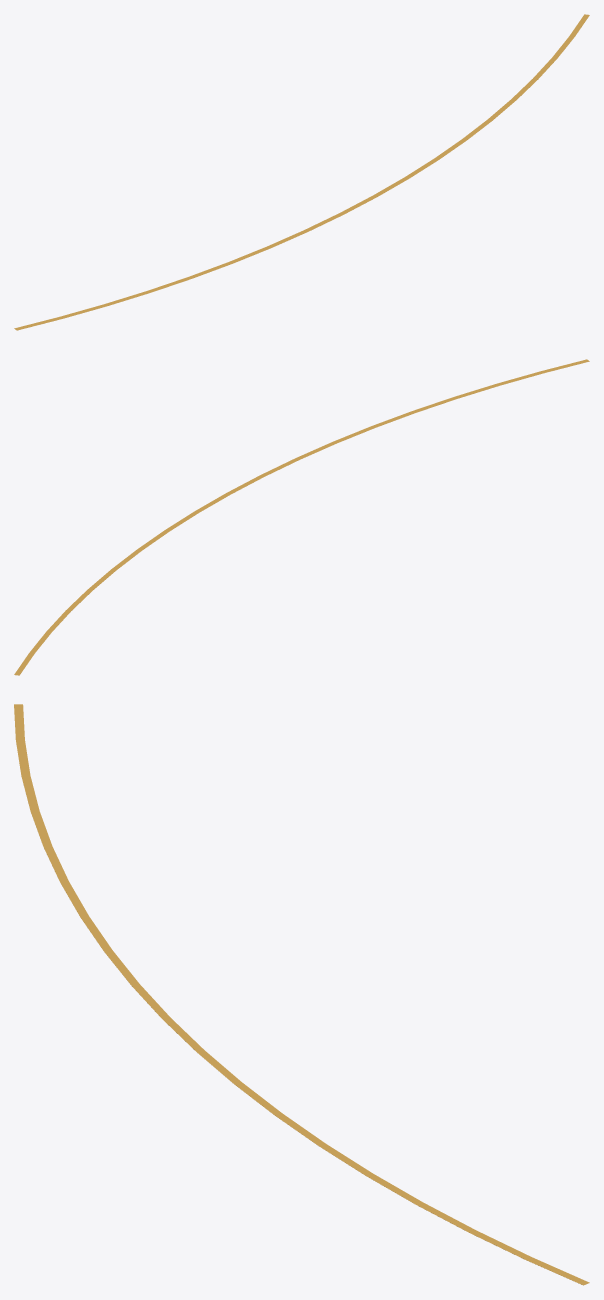
File: RoadPlan_CurveMarking_2L_A45_R18_Center.glb
The picture shows the model from 3 angles, top to bottom: view 1: azimuth 30°, elevation 25°; view 2: azimuth 210°, elevation 25°; view 3: azimuth 270°, elevation 25°; orthographic projection. The views are drawn at different scales.
Parts seen in each view (by area): view 1: RoadPlan_CurveMarking_2L_A45_R18_Center; view 2: RoadPlan_CurveMarking_2L_A45_R18_Center; view 3: RoadPlan_CurveMarking_2L_A45_R18_Center.
Boxes of the visible parts, x1,y1,x2,y2 form: RoadPlan_CurveMarking_2L_A45_R18_Center: (14, 14, 589, 330); RoadPlan_CurveMarking_2L_A45_R18_Center: (14, 359, 589, 675); RoadPlan_CurveMarking_2L_A45_R18_Center: (14, 704, 589, 1285).
Bounding box in the file's own units: 12.76 × 0.0007 × 5.34.
